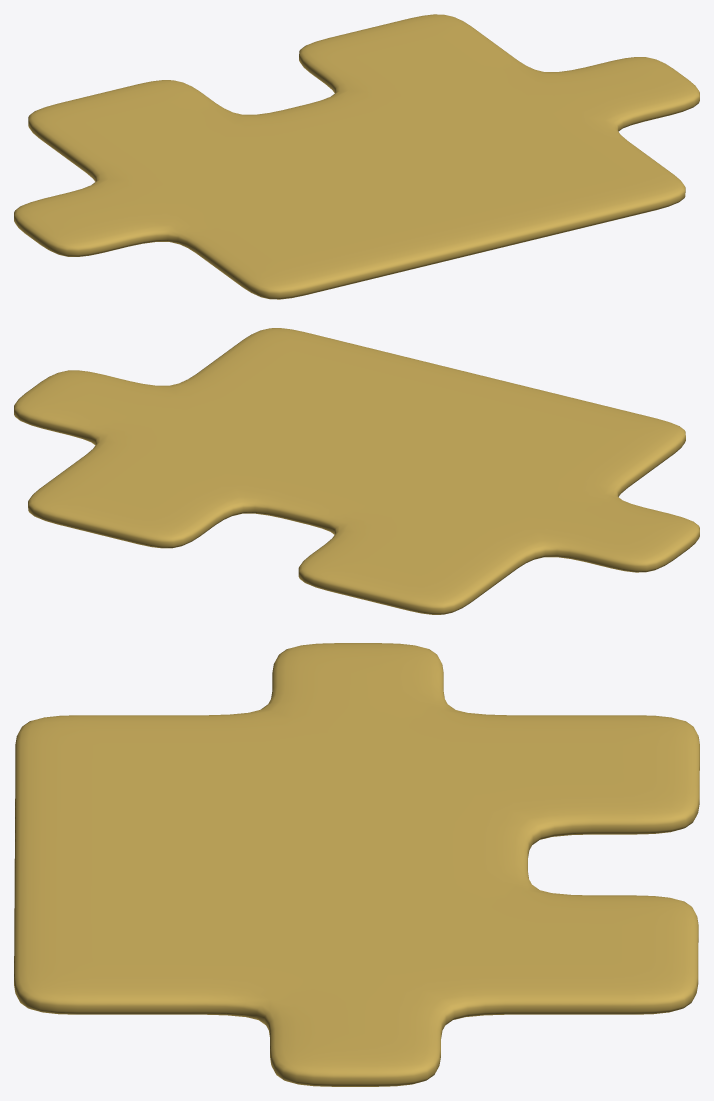
The model's file is GoldenPuzzle-08-OMFM.fbx.
3 views of the same model, one above another, from view 1: azimuth 30°, elevation 25°; view 2: azimuth 150°, elevation 25°; view 3: azimuth 270°, elevation 25° (orthographic). The views are drawn at different scales.
Visible parts, largest first — view 1: Puzzle_008; view 2: Puzzle_008; view 3: Puzzle_008.
Part boxes in pixels (x1,y1,x2,y2): Puzzle_008: [14, 14, 699, 299]; Puzzle_008: [14, 328, 699, 614]; Puzzle_008: [14, 643, 699, 1086].
Bounding box in the file's own units: 0.375 × 0.00924 × 0.2513.
